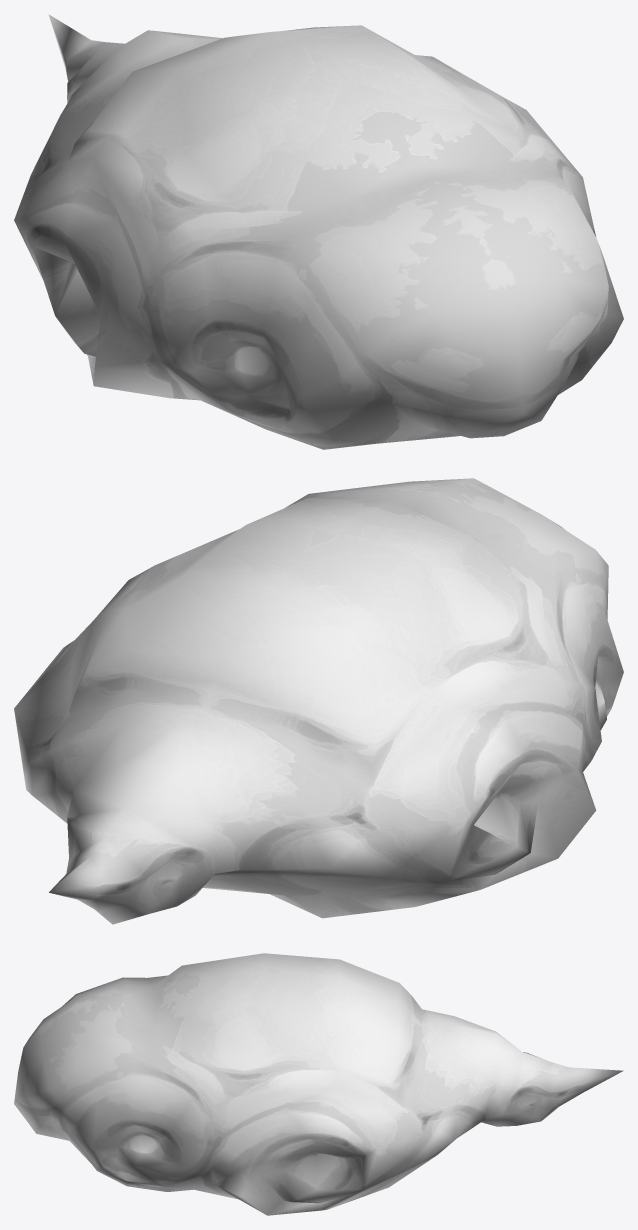
The model's file is board_cloud.glb.
3 views of the same model, one above another, from view 1: azimuth 30°, elevation 25°; view 2: azimuth 150°, elevation 25°; view 3: azimuth 270°, elevation 25° (orthographic). The views are drawn at different scales.
Visible parts, largest first — view 1: board_cloud; view 2: board_cloud; view 3: board_cloud.
Part boxes in pixels (left/top/right/bottom): board_cloud: left=14, top=14, right=623, bottom=449; board_cloud: left=14, top=478, right=623, bottom=924; board_cloud: left=14, top=953, right=623, bottom=1215.
Bounding box in the file's own units: 12.53 × 7.66 × 20.55.
1 material, 1 textured.
